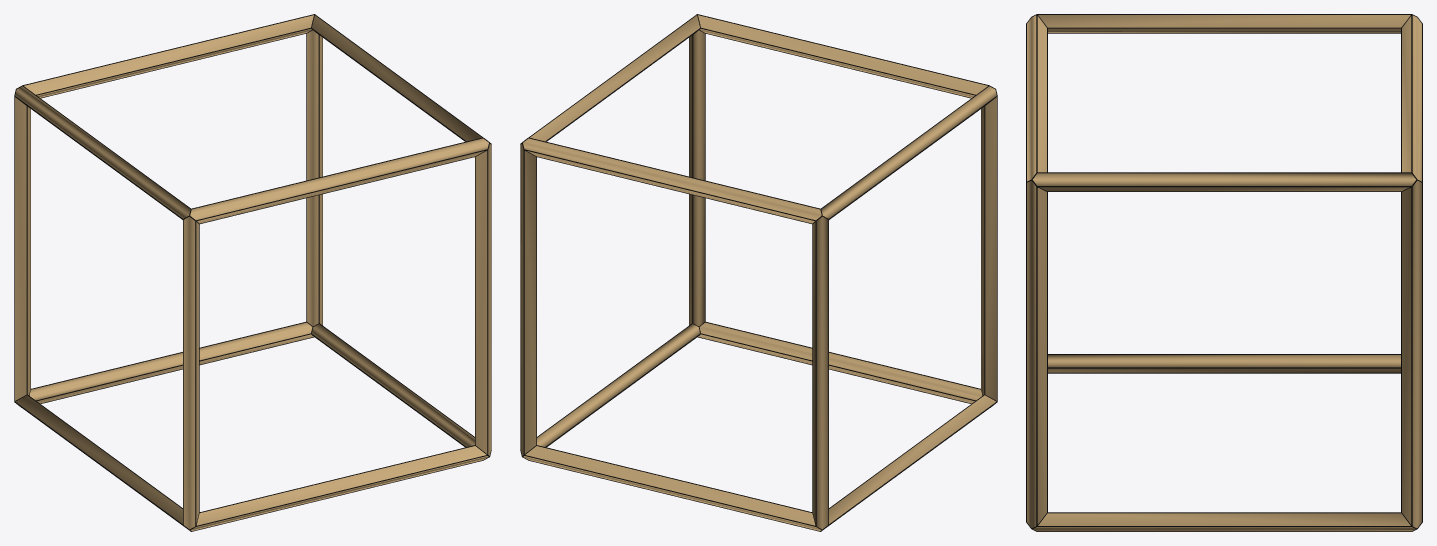
3 renders of one model, left to right at view 1: azimuth 30°, elevation 25°; view 2: azimuth 150°, elevation 25°; view 3: azimuth 270°, elevation 25°, orthographic. The views are drawn at different scales.
Visible parts, largest first — view 1: arete-Z1, arete-Z0, arete-X2, arete-X0, arete-Z2, arete-X3, arete-Z3, arete-X1, arete-Y2, arete-Y0, arete-Y3, arete-Y1 (+12 smaller); view 2: arete-Z3, arete-Z2, arete-X3, arete-X1, arete-Z0, arete-X2, arete-Z1, arete-X0, arete-Y2, arete-Y0, arete-Y3, arete-Y1 (+12 smaller); view 3: arete-Y3, arete-Z1, arete-Z3, arete-Y1, arete-Y2, arete-Y0, arete-X2, arete-X3, arete-wire-Y3, arete-wire-Y0, arete-wire-Y1, arete-wire-Y2 (+4 smaller).
Part boxes in pixels (x1,y1,x2,y2): arete-Z1: [475, 144, 491, 455]; arete-Z0: [183, 216, 198, 529]; arete-X2: [190, 138, 488, 223]; arete-X0: [190, 446, 488, 530]; arete-Z2: [15, 97, 30, 400]; arete-X3: [24, 15, 313, 97]; arete-Z3: [307, 30, 322, 326]; arete-X1: [29, 322, 313, 403]; arete-Y2: [15, 86, 190, 218]; arete-Y0: [15, 395, 182, 523]; arete-Y3: [312, 15, 481, 141]; arete-Y1: [312, 324, 474, 446]; arete-Z3: [520, 144, 536, 455]; arete-Z2: [813, 216, 828, 529]; arete-X3: [523, 138, 821, 223]; arete-X1: [523, 446, 821, 530]; arete-Z0: [981, 97, 996, 400]; arete-X2: [698, 15, 987, 97]; arete-Z1: [689, 30, 704, 326]; arete-X0: [698, 322, 982, 403]; arete-Y2: [821, 86, 996, 218]; arete-Y0: [829, 395, 996, 523]; arete-Y3: [530, 15, 699, 141]; arete-Y1: [537, 324, 699, 446]; arete-Y3: [1032, 173, 1416, 191]; arete-Z1: [1027, 180, 1046, 527]; arete-Z3: [1402, 180, 1421, 527]; arete-Y1: [1033, 513, 1415, 531]; arete-Y2: [1038, 15, 1410, 32]; arete-Y0: [1048, 355, 1400, 372]; arete-X2: [1027, 15, 1046, 181]; arete-X3: [1402, 15, 1421, 181]; arete-wire-Y3: [1037, 172, 1417, 191]; arete-wire-Y0: [1048, 354, 1400, 373]; arete-wire-Y1: [1031, 512, 1417, 531]; arete-wire-Y2: [1037, 14, 1417, 33].
Bounding box in the file's own units: 0.8238 × 0.8238 × 0.8238.
